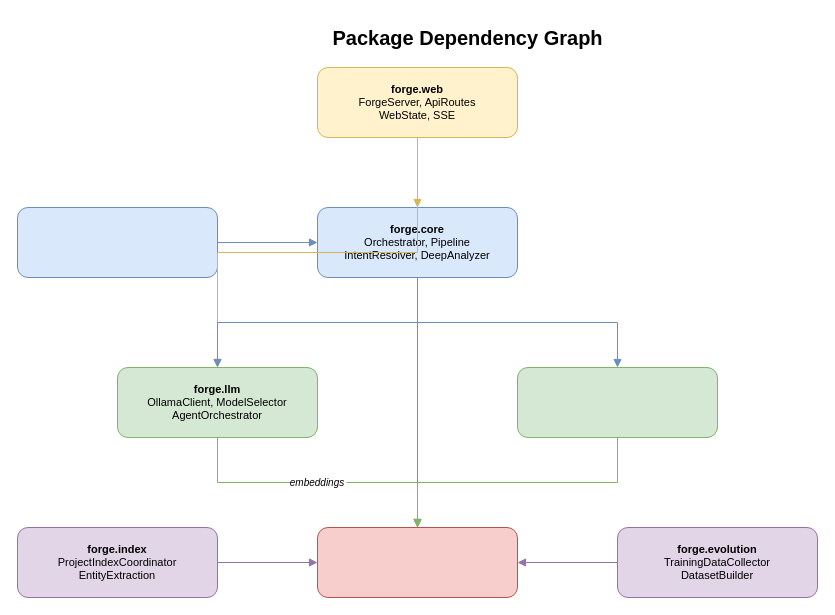
Image size: 835x615. Some labels were removed from this diagram. Here are the shapes that lost their labels. From the top down, the centre of each, then its label:
At point (117, 242): "forge.core.prompt PromptAnalyzer ExecutionPlanner".
At point (617, 402): "forge.retrieval RepoScanner, Chunker HierarchicalRetriever".
At point (417, 562): "forge.workspace WorkspaceManager Database, EmbeddingStore".
